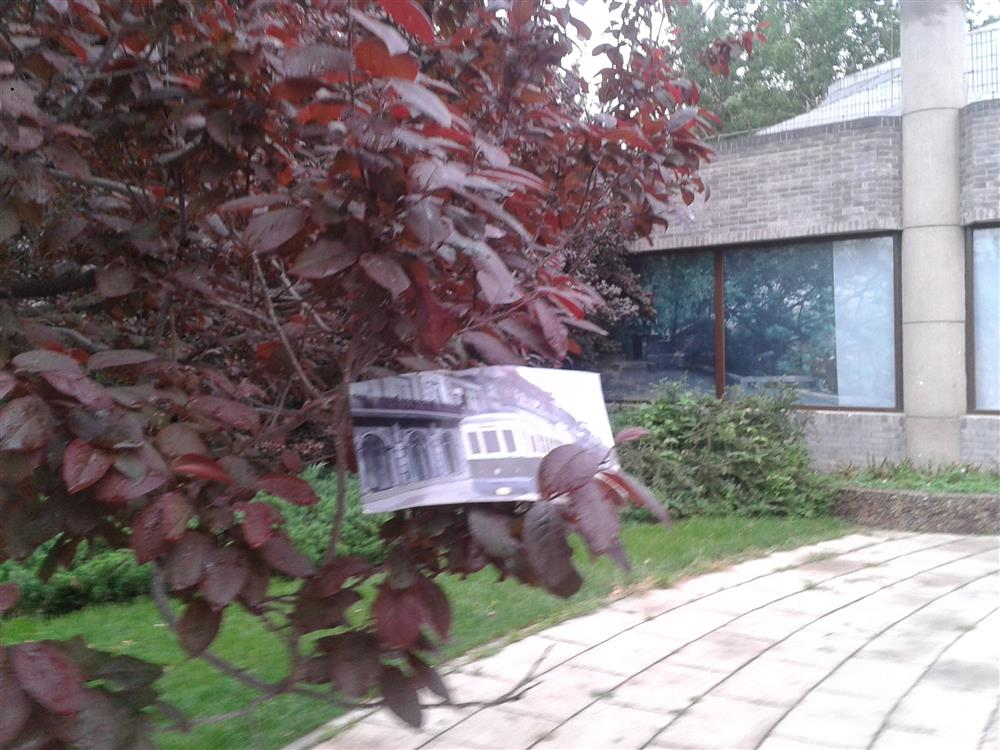postcard: (333, 348, 641, 536)
